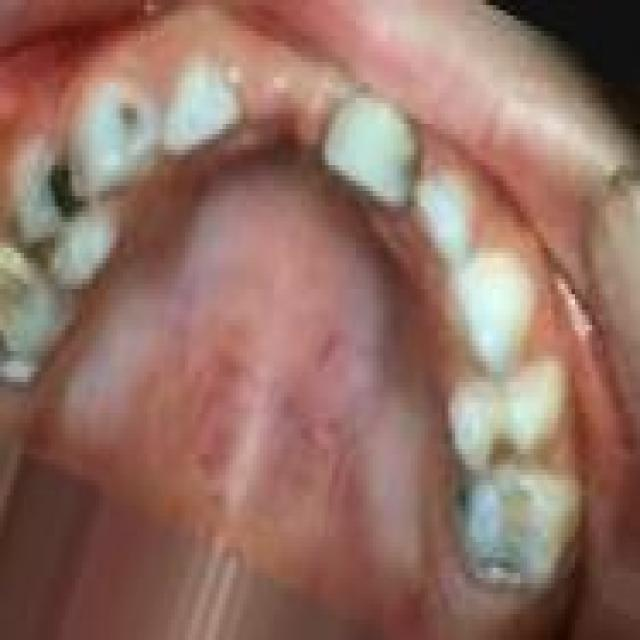caries: (456, 457, 558, 604), (15, 139, 90, 283), (107, 72, 150, 170)
